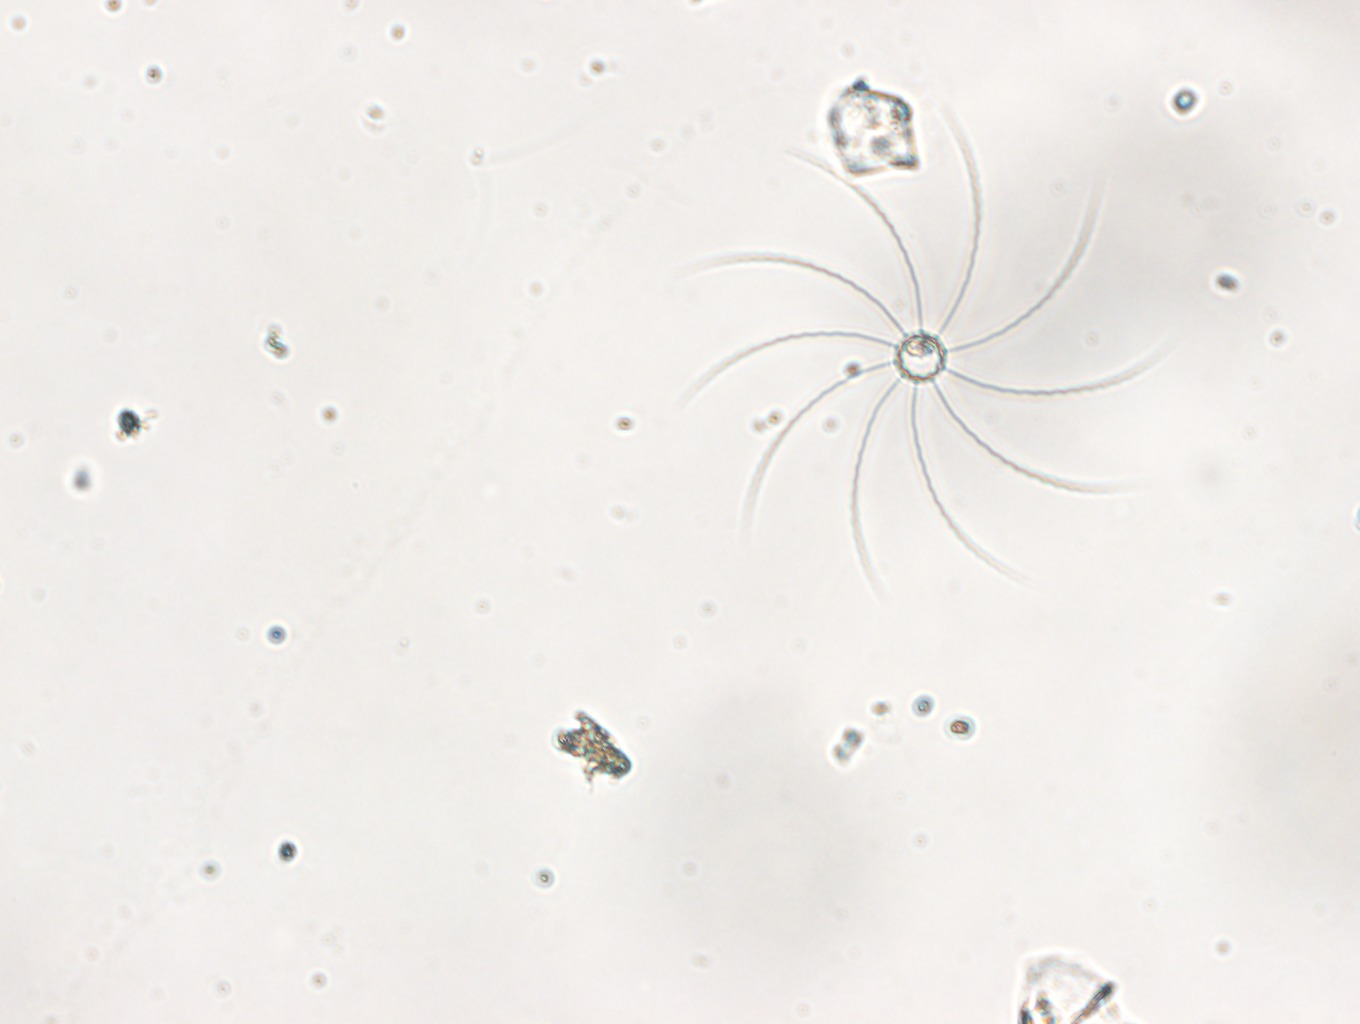bacteriastrum: (678, 108, 1170, 601)
